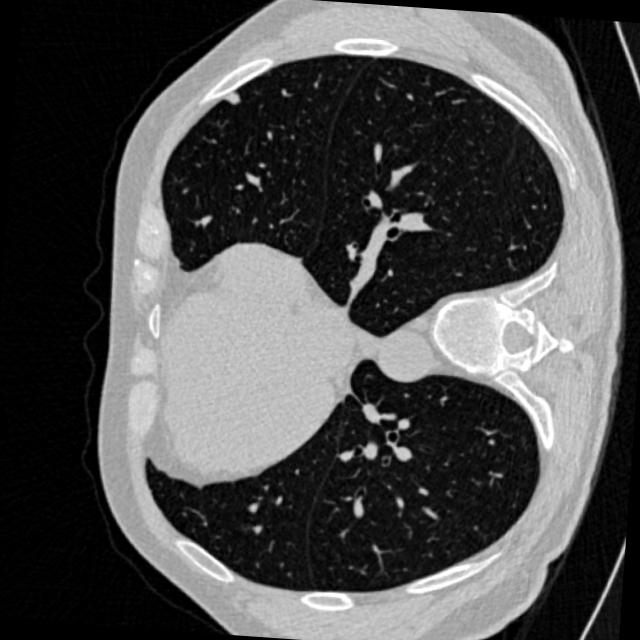nodule: (216, 81, 246, 111)
